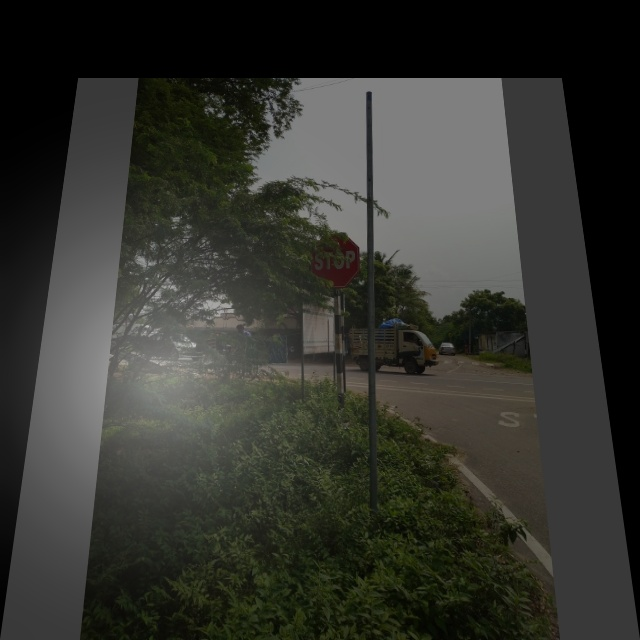Stop: (311, 234, 358, 290)
